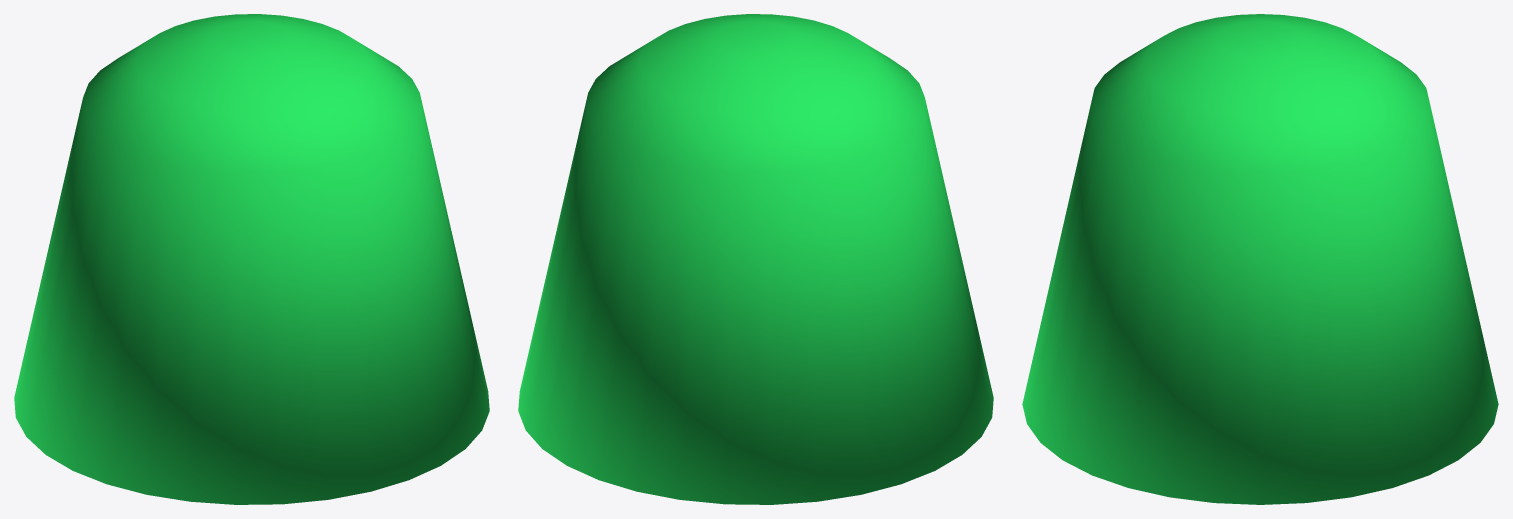
File: GumdropGreen.fbx
The picture shows the model from 3 angles, left to right: view 1: azimuth 30°, elevation 25°; view 2: azimuth 150°, elevation 25°; view 3: azimuth 270°, elevation 25°; orthographic projection.
Visible parts, largest first — view 1: Cylinder; view 2: Cylinder; view 3: Cylinder.
Boxes of the visible parts, box(x1,y1,x2,y2) form: Cylinder: box(14, 14, 489, 504); Cylinder: box(518, 14, 993, 504); Cylinder: box(1022, 14, 1498, 504).
Size of the model in its own units: 237 by 200 by 237.
